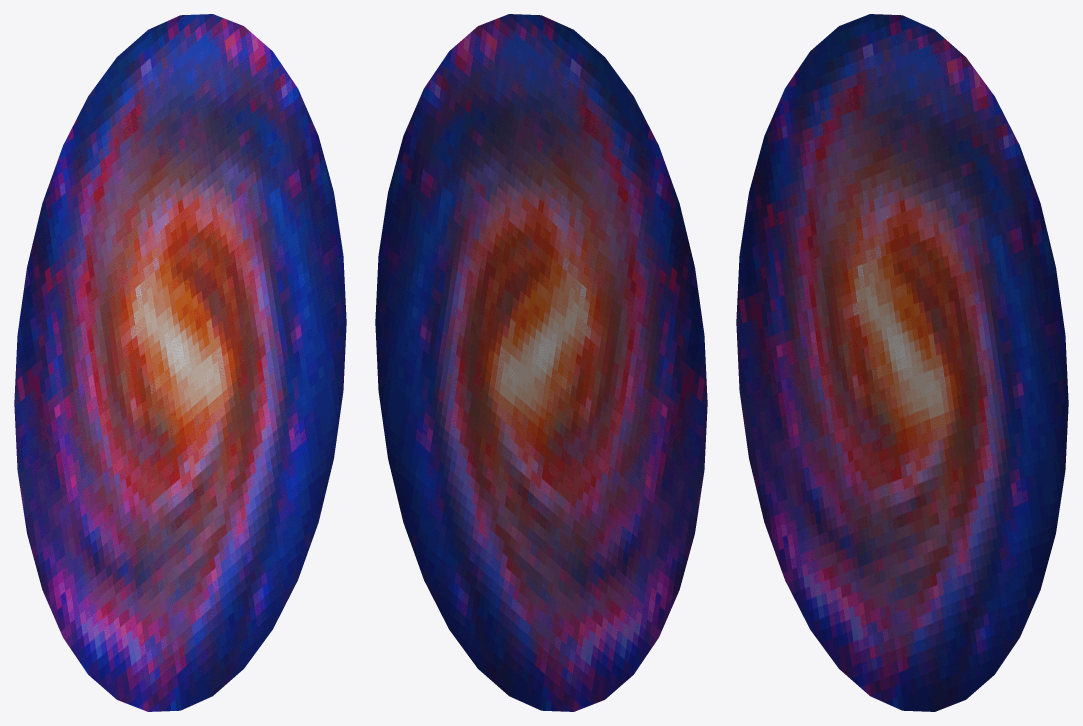
Rendered from portalCore.glb.
The picture shows the model from 3 angles, left to right: view 1: azimuth 30°, elevation 25°; view 2: azimuth 150°, elevation 25°; view 3: azimuth 330°, elevation 25°; orthographic projection.
Visible parts, largest first — view 1: PortalCenter; view 2: PortalCenter; view 3: PortalCenter.
Part boxes in pixels (bbox=[...]): PortalCenter: bbox=[14, 14, 346, 711]; PortalCenter: bbox=[375, 14, 707, 711]; PortalCenter: bbox=[736, 14, 1068, 711].
Size of the model in its own units: 1.61 by 3.21 by 7.22e-16.
1 material, 1 textured.
